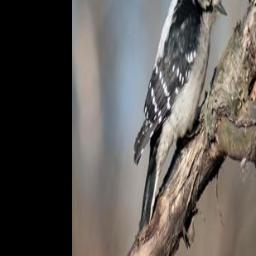Woodpecker: (133, 0, 229, 238)
